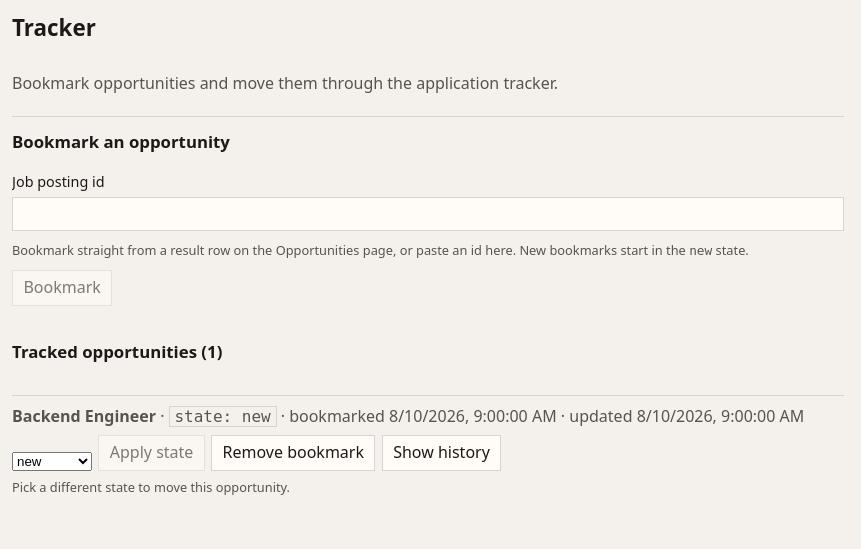
Scenario: TrackerPage › keeps the displayed state when the API rejects an illegal transition
The image size is (861, 549).
Check: the button "Remove bookmark" is enabled, box [211,435,375,471]
Select "submitted" in the dropdown named "Next state for Backend Engineer": (52,462) [12,452,92,471]
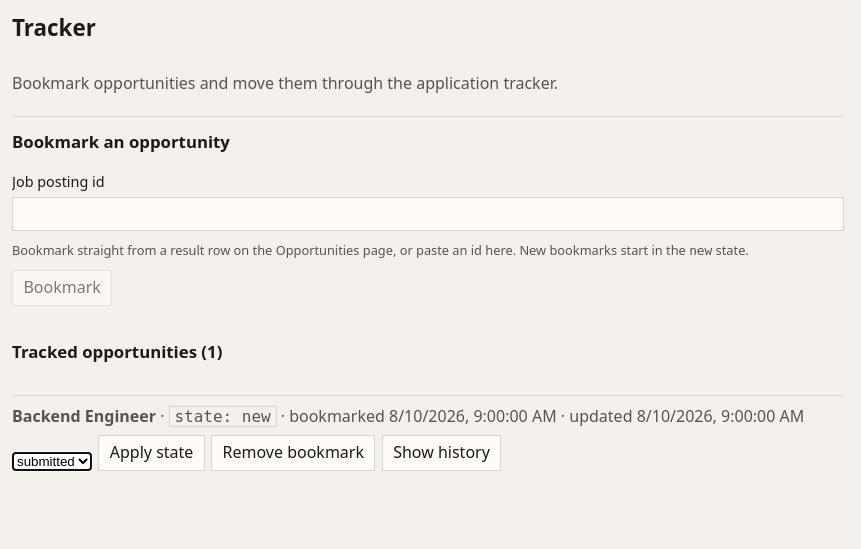
Click the button "Apply state": (152,453) [98,435,205,471]
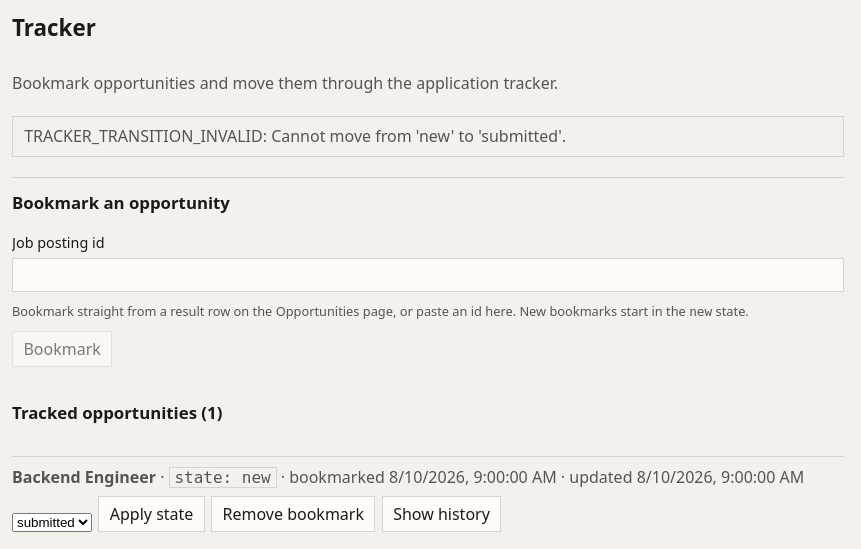
Check: the text "state: new" is shown, box [169,467,276,488]
Check: the message shows "TRACKER_TRANSITION_INVALID", box [24,125,566,147]
